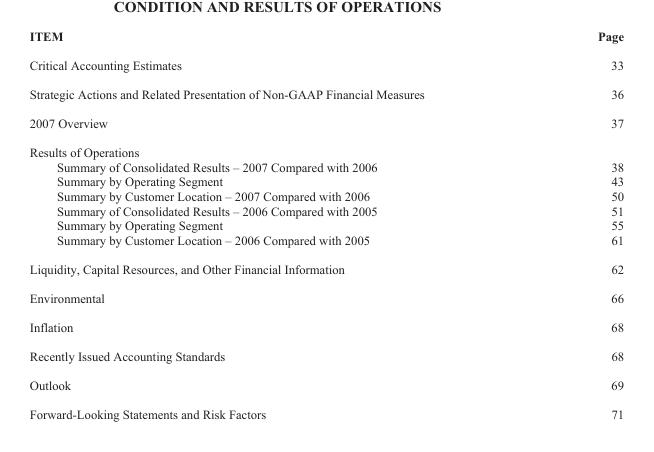table: (28, 29, 623, 420)
table column: (28, 29, 510, 420), (510, 29, 623, 420)
table column header: (28, 29, 623, 50)
table projected row header: (28, 137, 623, 159)
table row: (28, 340, 623, 370), (28, 50, 623, 79), (28, 79, 623, 108), (28, 108, 623, 137), (28, 253, 623, 282), (28, 282, 623, 311), (28, 311, 623, 340), (28, 370, 623, 399), (28, 137, 623, 159), (28, 29, 623, 50), (28, 232, 623, 253), (28, 399, 623, 420), (28, 173, 623, 188), (28, 188, 623, 203), (28, 217, 623, 232), (28, 159, 623, 173), (28, 203, 623, 217)
